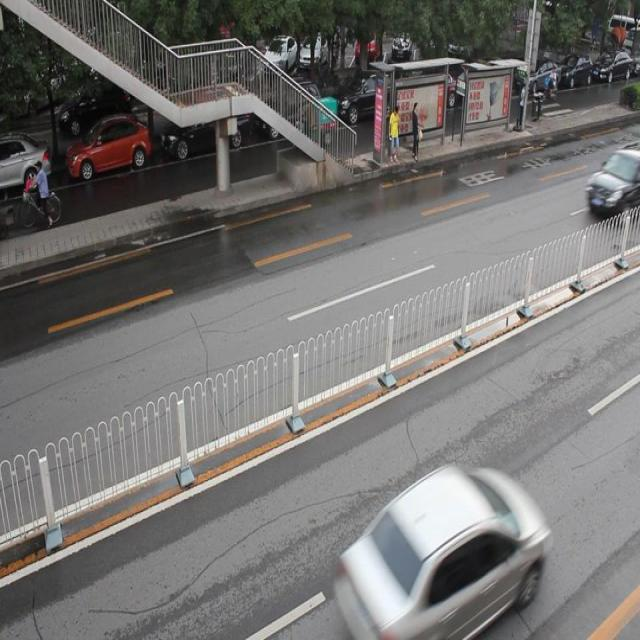car: (332, 466, 552, 640), (66, 116, 151, 181), (158, 106, 249, 159), (582, 145, 640, 216), (260, 78, 320, 138), (337, 68, 397, 123), (1, 137, 52, 195)
